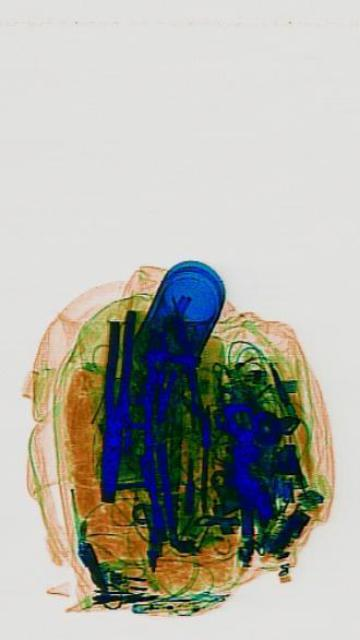Pliers: (91, 304, 135, 503)
